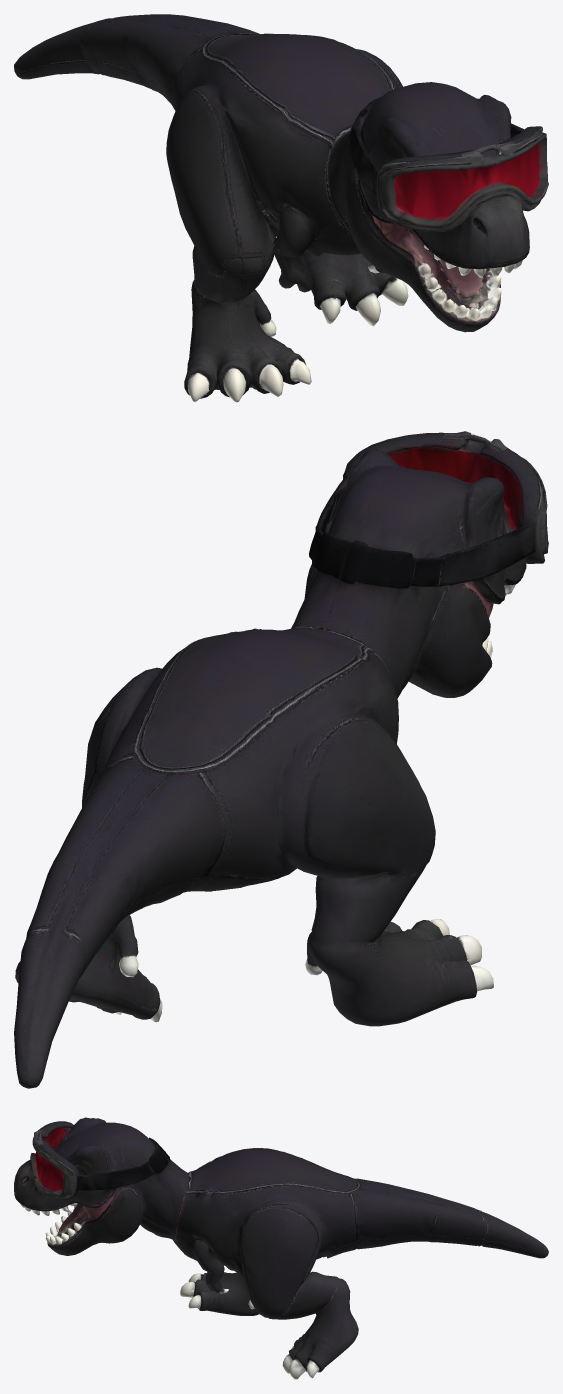
Rendered from dino_tyranno_5.glb.
3 renders of one model, top to bottom at view 1: azimuth 30°, elevation 25°; view 2: azimuth 150°, elevation 25°; view 3: azimuth 270°, elevation 25°, orthographic. The views are drawn at different scales.
Parts seen in each view (by area): view 1: mesh_node; view 2: mesh_node; view 3: mesh_node.
Boxes of the visible parts, x1,y1,x2,y2 form: mesh_node: (14,14,548,402); mesh_node: (14,431,548,1088); mesh_node: (14,1117,548,1379).
Bounding box in the file's own units: 1.02 × 1.13 × 2.53.
Materials: 1 (1 with a texture image).
